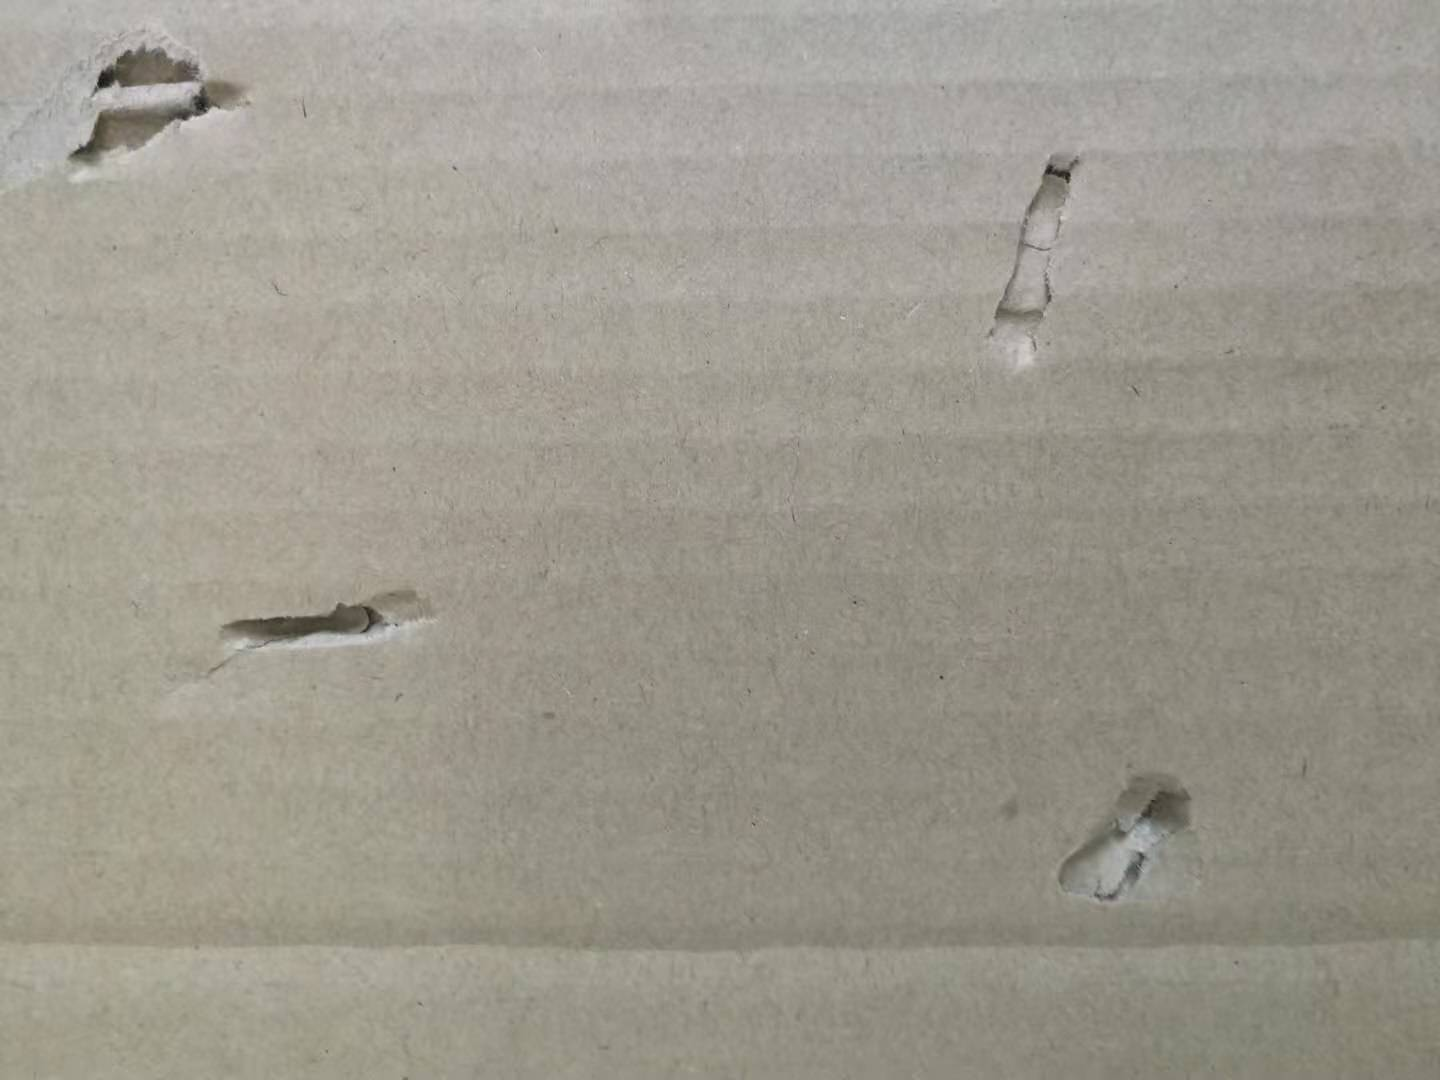defect: (2, 891, 1440, 1009), (5, 3, 286, 236), (144, 569, 459, 735), (952, 119, 1119, 393), (1027, 744, 1234, 923)
